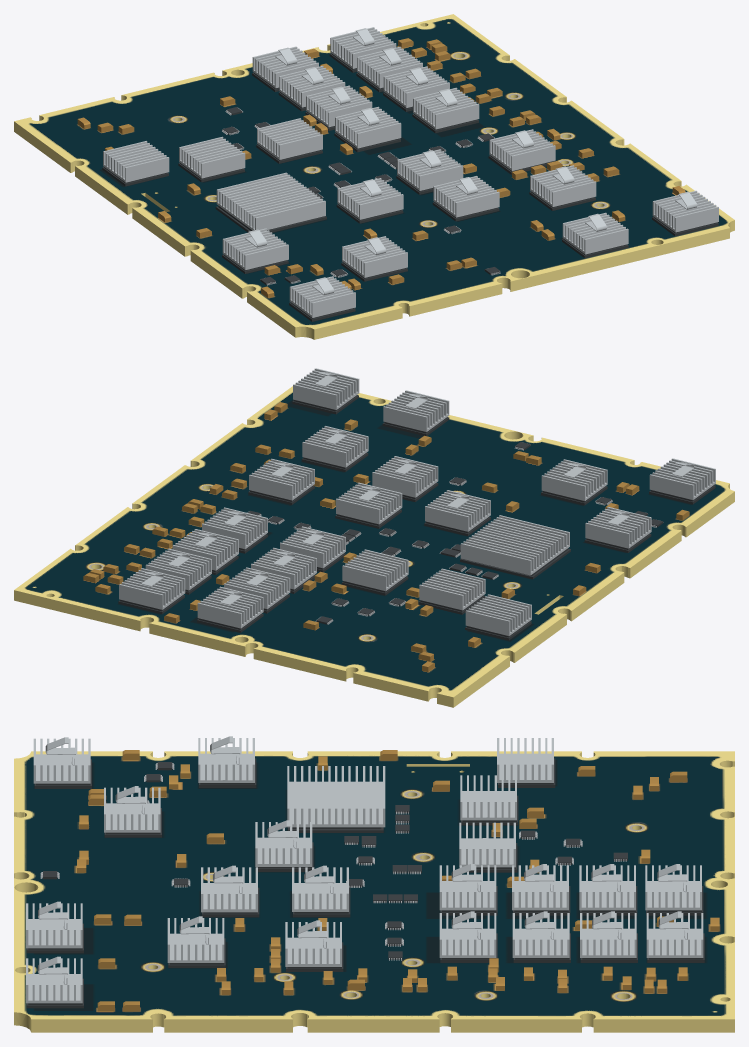
Rendered from DU_電路板_藍_ALL.fbx.
The picture shows the model from 3 angles, top to bottom: view 1: azimuth 30°, elevation 25°; view 2: azimuth 150°, elevation 25°; view 3: azimuth 270°, elevation 25°; orthographic projection. The views are drawn at different scales.
Visible parts, largest first — view 1: pCube41, pCube170, pCube166, pCube168, pCube108, pCube125, pCube122, pCube157, pCube140, pCube155, pCube143, pCube146 (+11 smaller); view 2: pCube41, pCube170, pCube108, pCube166, pCube168, pCube137, pCube160, pCube152, pCube155, pCube162, pCube134, pCube143 (+11 smaller); view 3: pCube41, pCube170, pCube166, pCube168, pCube108, pCube125, pCube160, pCube128, pCube146, pCube149, pCube119, pCube155 (+12 smaller).
Boxes of the visible parts, x1,y1,x2,y2 form: pCube41: (14, 14, 734, 339); pCube170: (216, 172, 325, 230); pCube166: (179, 136, 245, 178); pCube168: (103, 141, 169, 182); pCube108: (257, 118, 322, 159); pCube125: (335, 106, 401, 148); pCube122: (413, 87, 479, 129); pCube157: (222, 228, 288, 269); pCube140: (489, 129, 555, 170); pCube155: (652, 190, 718, 232); pCube143: (530, 165, 596, 206); pCube146: (433, 176, 499, 217); pCube41: (14, 384, 734, 707); pCube170: (460, 515, 569, 575); pCube108: (342, 549, 408, 591); pCube166: (419, 568, 485, 610); pCube168: (465, 594, 531, 635); pCube137: (336, 482, 402, 524); pCube160: (649, 458, 715, 499); pCube152: (383, 390, 449, 431); pCube155: (293, 368, 359, 409); pCube162: (541, 459, 607, 500); pCube134: (197, 586, 263, 628); pCube143: (302, 426, 368, 467); pCube41: (14, 751, 734, 1032); pCube170: (287, 766, 385, 827); pCube166: (460, 775, 516, 820); pCube168: (497, 738, 553, 782); pCube108: (459, 822, 515, 867); pCube125: (439, 865, 496, 910); pCube160: (33, 738, 90, 783); pCube128: (512, 865, 568, 910); pCube146: (201, 867, 257, 912); pCube149: (255, 822, 312, 866); pCube119: (512, 913, 569, 957); pCube155: (26, 958, 82, 1003).
Bounding box in the file's own units: 44 × 3.7 × 50.
Materials: 9 (8 with a texture image).
